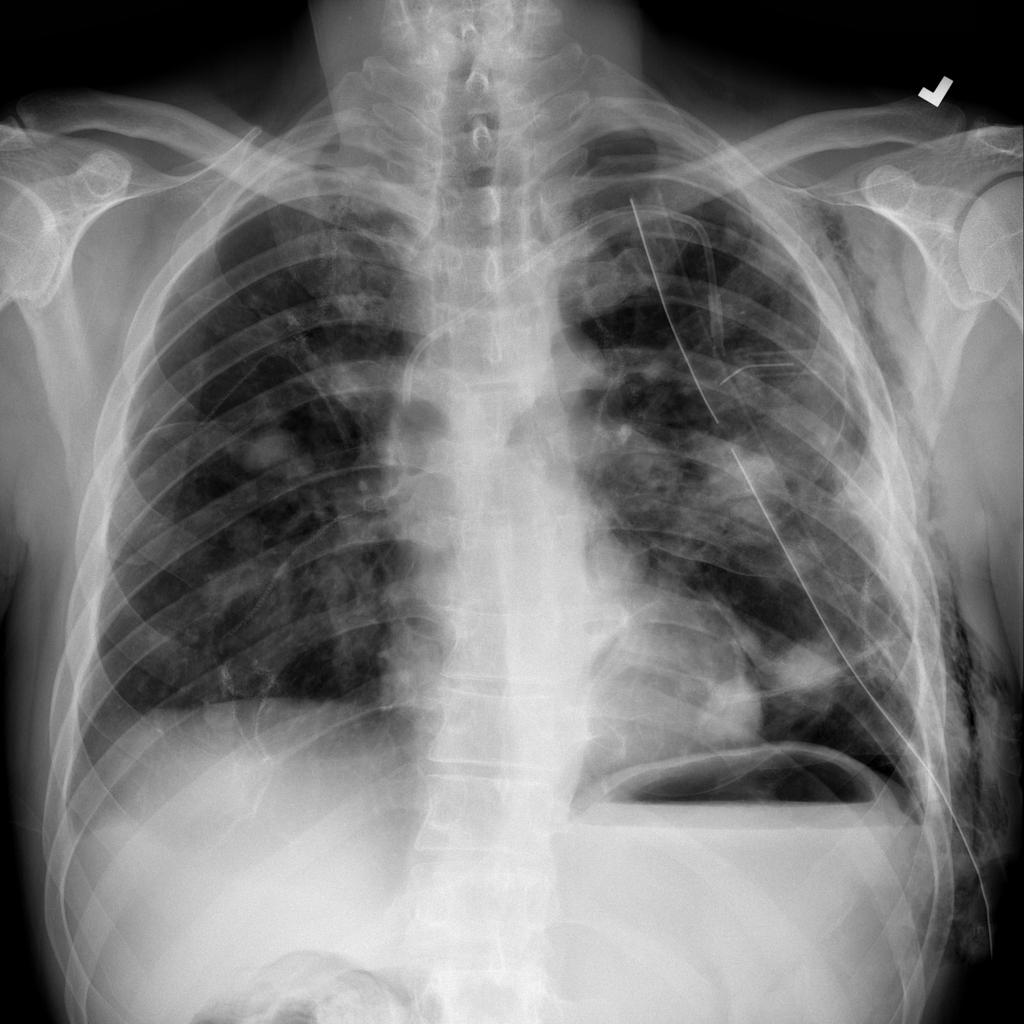nodule: (182, 528, 326, 665), (681, 415, 816, 555), (670, 655, 788, 768), (749, 621, 866, 729), (224, 408, 312, 483), (708, 203, 757, 257)
